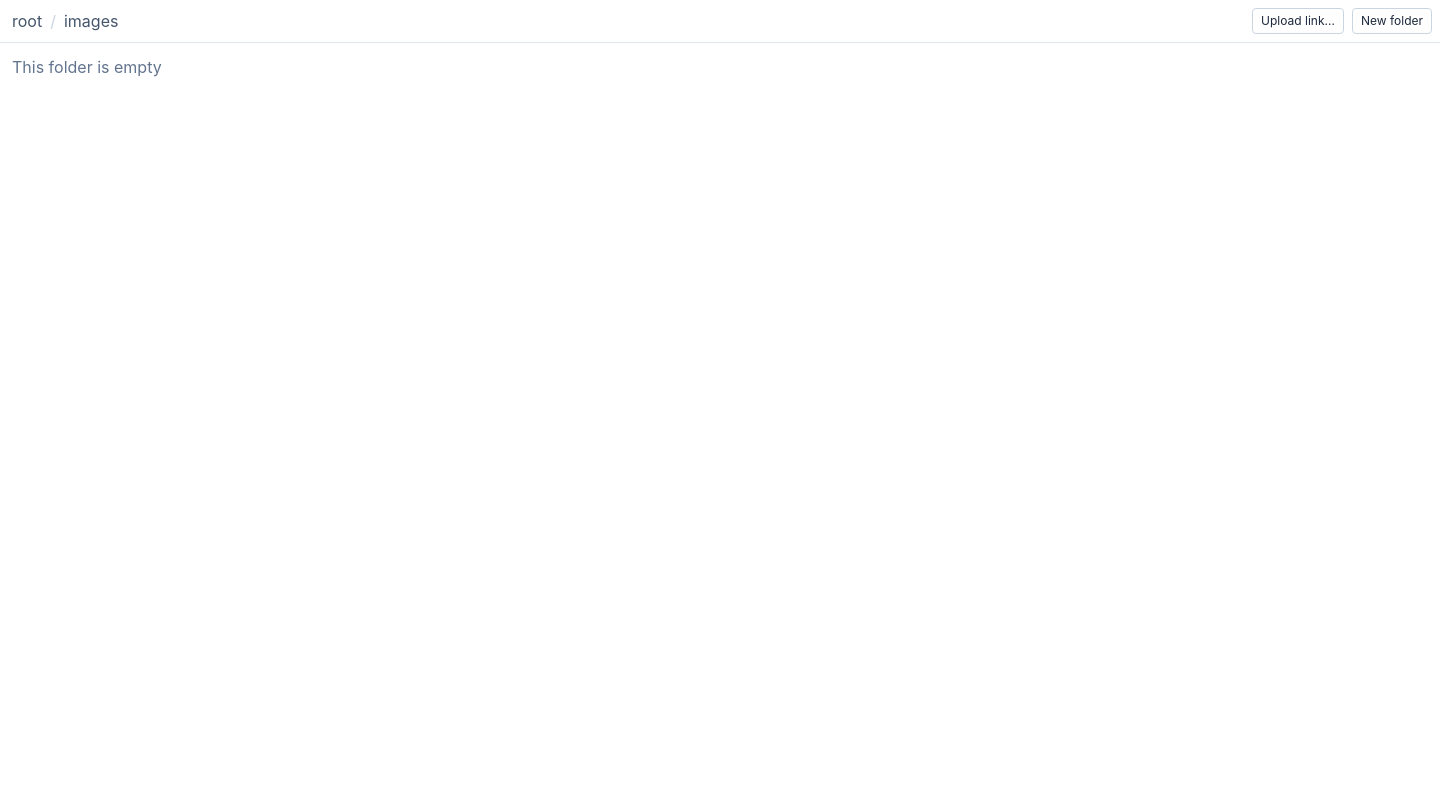
Test: FileBrowser upload link › opens the Upload link dialog from the toolbar
Expected: the text "This folder is empty" is shown, [12,57,162,77]
Click the button "Upload link…": (1298, 21) [1252,8,1344,34]
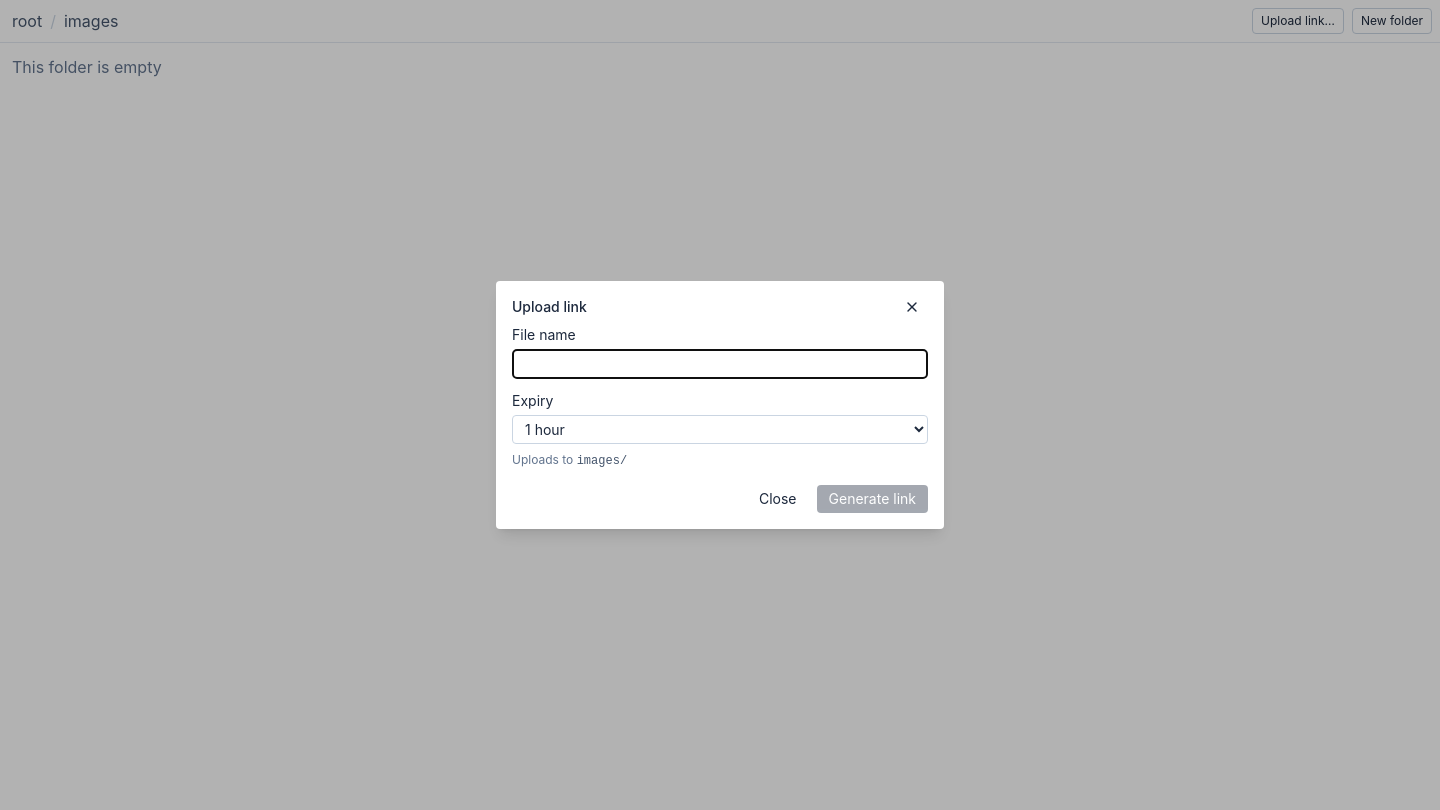
Now the field labelled "File name" is shown, box [512,349,928,379]
